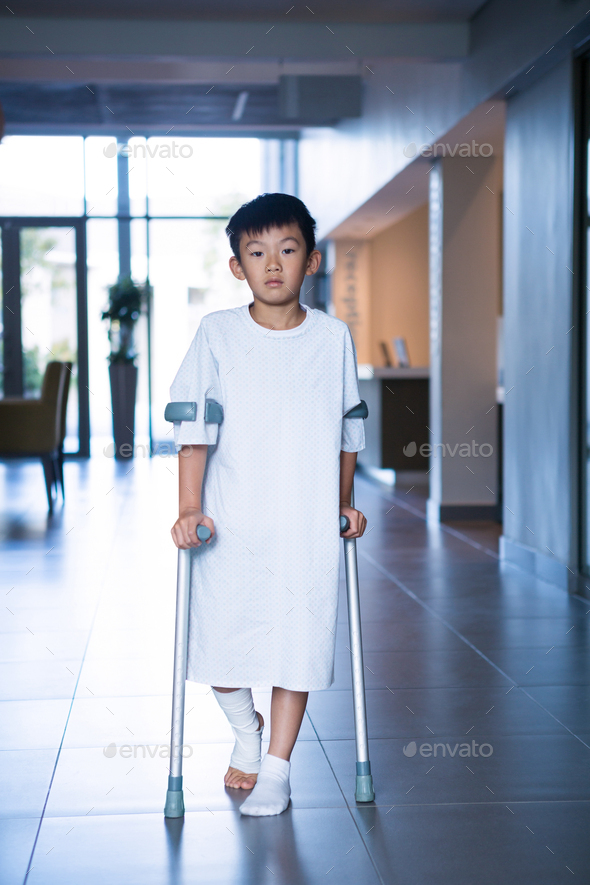crutches: (157, 191, 377, 825)
